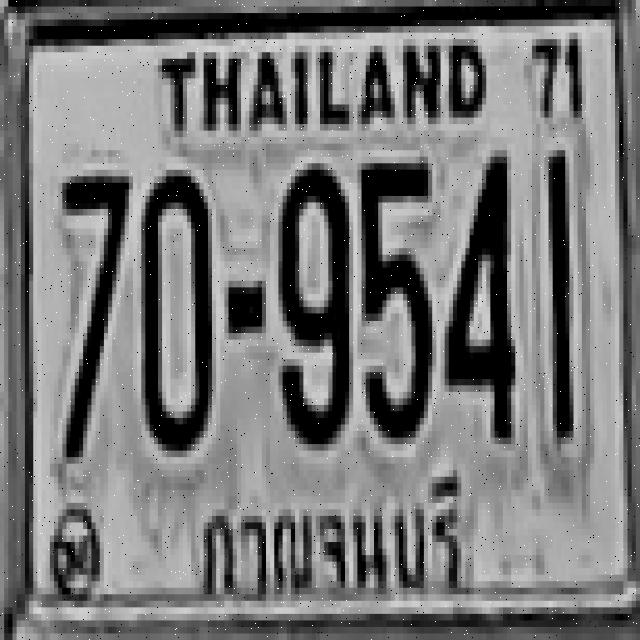0: (140, 170, 210, 444)
1: (544, 150, 570, 438)
4: (441, 150, 511, 438)
5: (358, 156, 428, 438)
7: (58, 170, 128, 458)
9: (276, 156, 346, 438)
Kanchanaburi: (193, 468, 470, 607)
